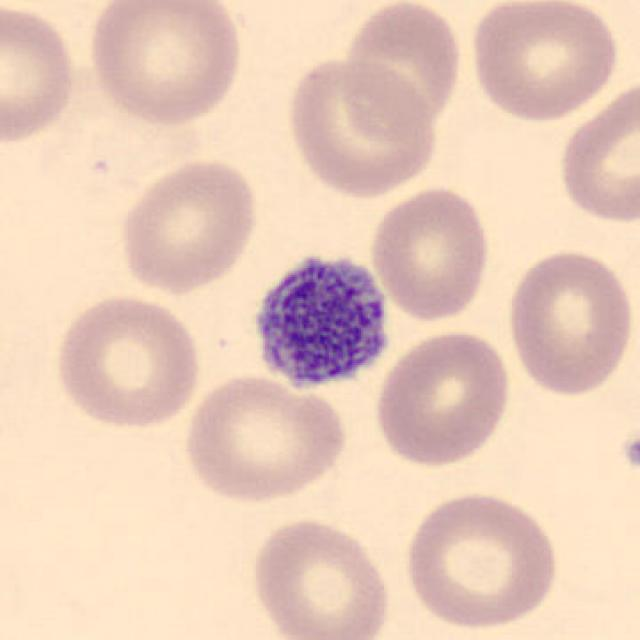Platelets: (244, 242, 398, 400), (617, 428, 640, 478)
RBC: (400, 487, 564, 631), (180, 370, 350, 508), (282, 55, 442, 199), (50, 291, 204, 432), (84, 0, 247, 129), (116, 154, 262, 296), (503, 244, 637, 398), (372, 326, 514, 469), (466, 0, 622, 125), (247, 513, 397, 640), (366, 182, 494, 322), (340, 0, 466, 134), (553, 76, 638, 227), (0, 0, 82, 146)
